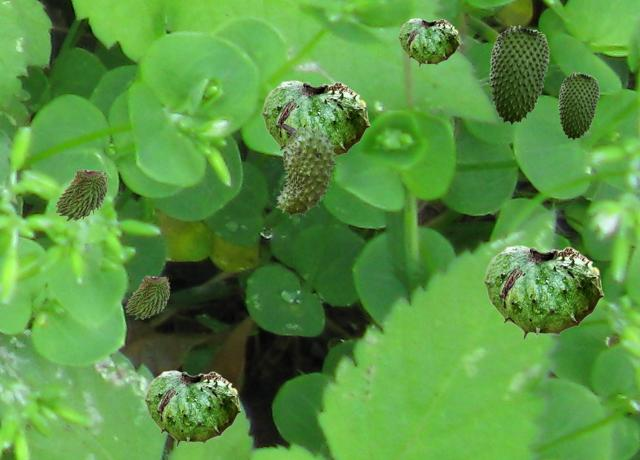guyabano: (483, 245, 603, 339), (261, 80, 369, 157), (144, 370, 240, 446), (275, 123, 339, 217), (489, 25, 548, 124), (398, 18, 459, 66), (54, 167, 107, 220), (558, 72, 598, 139), (125, 274, 169, 318)
